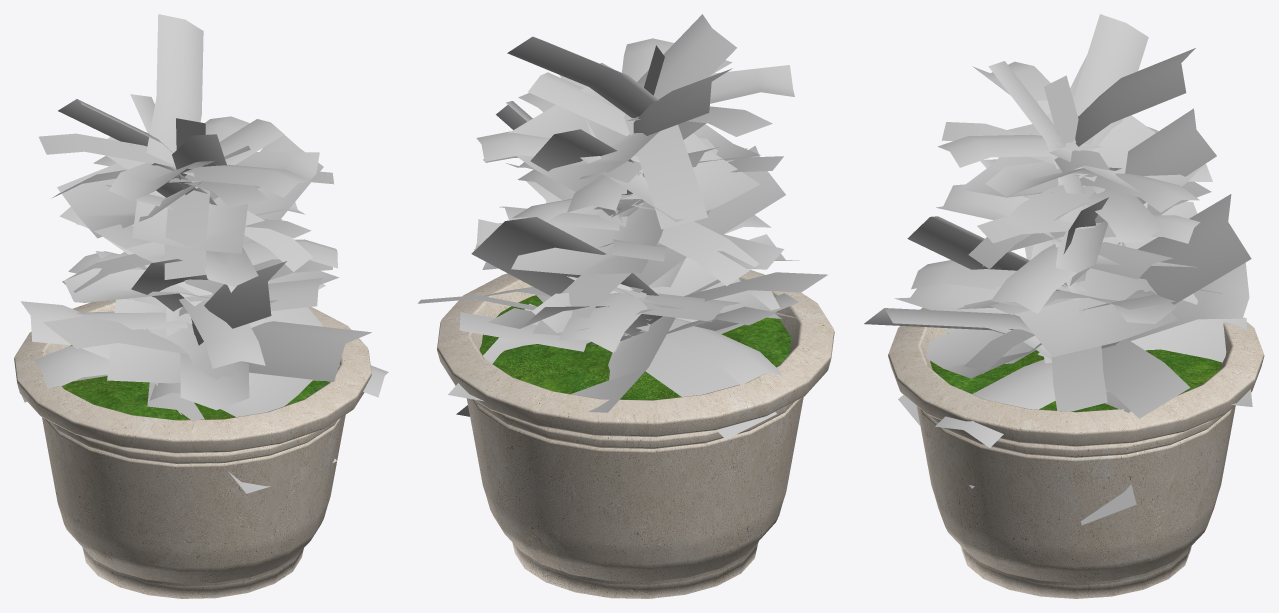
The model's file is chaucay_4.fbx.
3 renders of one model, left to right at view 1: azimuth 30°, elevation 25°; view 2: azimuth 150°, elevation 25°; view 3: azimuth 270°, elevation 25°, orthographic. The views are drawn at different scales.
Visible parts, largest first — view 1: chaucay_D; view 2: chaucay_D; view 3: chaucay_D.
Part boxes in pixels (left/top/right/bottom): chaucay_D: left=14, top=14, right=388, bottom=598; chaucay_D: left=418, top=14, right=834, bottom=598; chaucay_D: left=864, top=14, right=1264, bottom=598.
Size of the model in its own units: 40.51 by 59.52 by 42.05.
